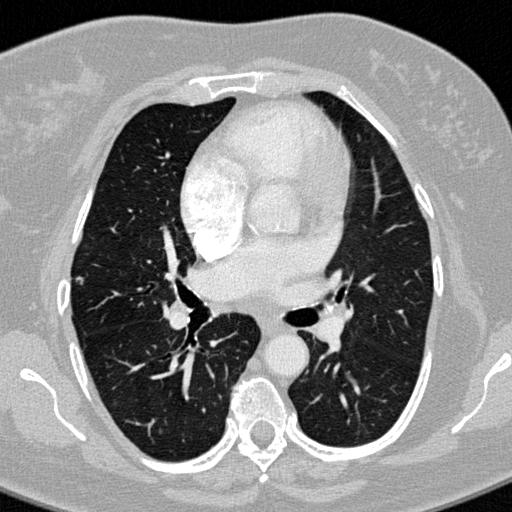nodule: (73, 273, 87, 287)
